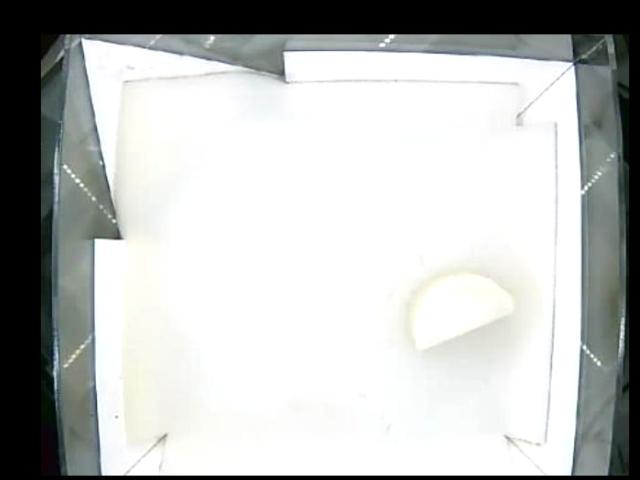Mooli: (409, 268, 526, 350)
